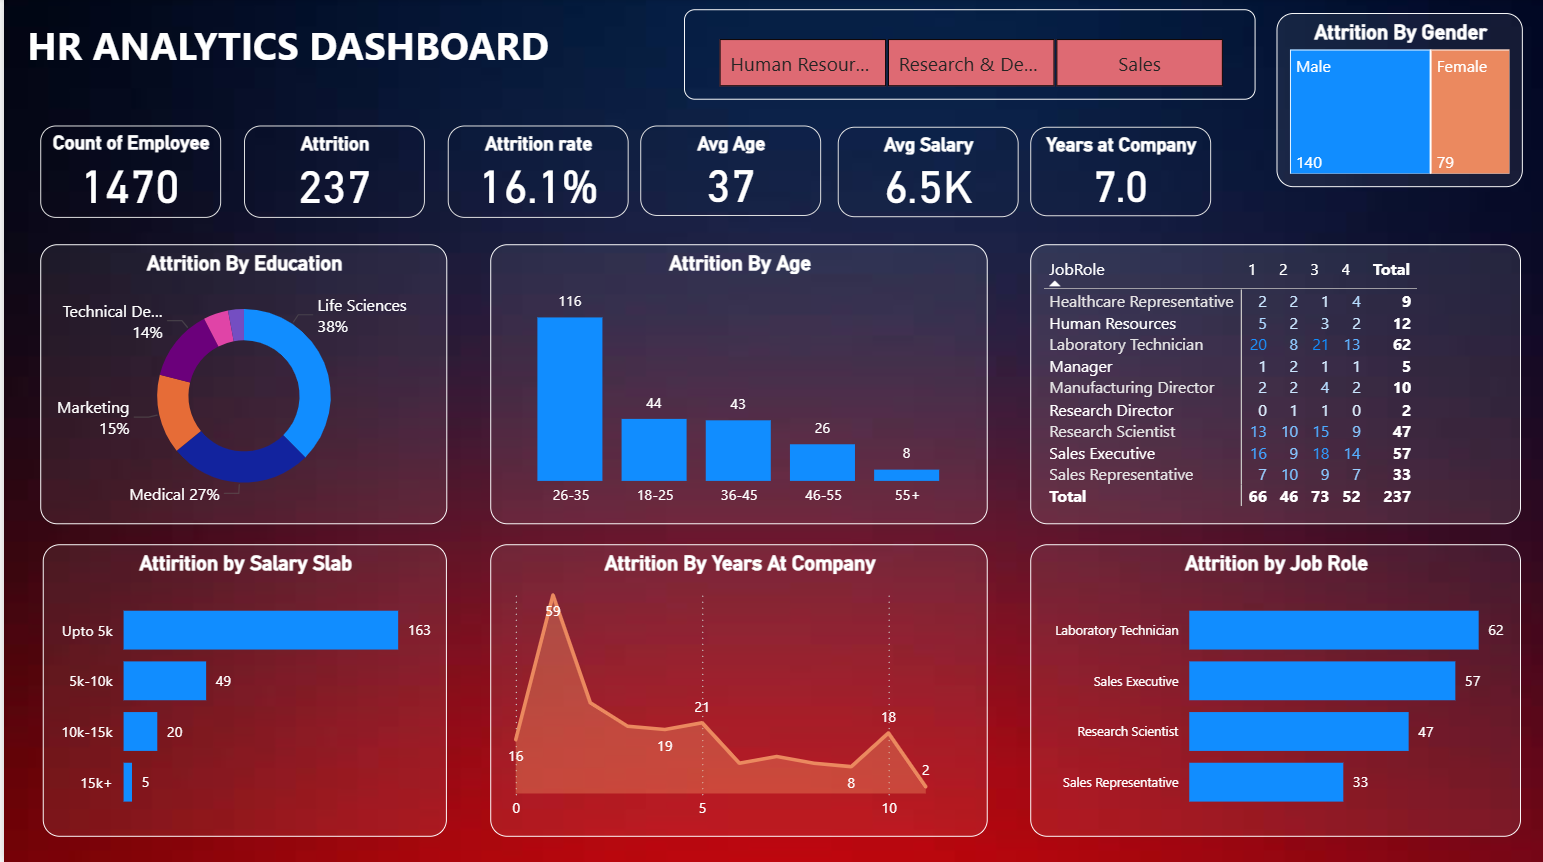

What the dashboard file says about the page in this screenshot:
{"tool":"powerbi","page":{"name":"Page 1","canvas":[1280,720],"ordinal":0},"visuals":[{"type":"card","title":"Count of Employee","fields":{"Values":["CountNonNull(HR_Analytics.EmpID)"]},"box":[30.2,105.8,150,76.7],"z":0},{"type":"card","title":"Attrition rate","fields":{"Values":["HR_Analytics.AttritionRate"]},"box":[368.6,105.8,150,76.7],"z":1000},{"type":"card","title":"Avg Age","fields":{"Values":["Avg(HR_Analytics.Age)"]},"box":[529.1,105.8,150,75.6],"z":2000},{"type":"card","title":"Attrition ","fields":{"Values":["Sum(HR_Analytics.AttritionCounnt)"]},"box":[200,105.8,150,76.7],"z":3000},{"type":"card","title":"Avg Salary","fields":{"Values":["Avg(HR_Analytics.MonthlyIncome)"]},"box":[693,107,150,75.6],"z":4000},{"type":"card","title":"Years at Company","fields":{"Values":["Avg(HR_Analytics.YearsAtCompany)"]},"box":[853.5,107,150,74.4],"z":5000},{"type":"donutChart","title":"Attrition By Education","fields":{"Y":["Sum(HR_Analytics.AttritionCounnt)"],"Category":["HR_Analytics.EducationField"]},"box":[30.2,204.7,338.4,232.6],"z":6000},{"type":"columnChart","title":"Attrition By Age","fields":{"Category":["HR_Analytics.AgeGroup"],"Y":["Sum(HR_Analytics.AttritionCounnt)"]},"box":[404.7,204.7,414,232.6],"z":7000},{"type":"pivotTable","fields":{"Rows":["HR_Analytics.JobRole"],"Columns":["HR_Analytics.JobSatisfaction"],"Values":["Sum(HR_Analytics.AttritionCounnt)"]},"box":[853.5,204.7,408.1,232.6],"z":8000},{"type":"barChart","title":"Attirition by Salary Slab","fields":{"Category":["HR_Analytics.SalarySlab"],"Y":["Sum(HR_Analytics.AttritionCounnt)"]},"box":[32.6,454.7,336,243],"z":9000},{"type":"barChart","title":"Attrition by Job Role","fields":{"Y":["Sum(HR_Analytics.AttritionCounnt)"],"Category":["HR_Analytics.JobRole"]},"box":[853.5,454.7,408.1,243],"z":10000},{"type":"areaChart","title":"Attrition By Years At Company","fields":{"Category":["HR_Analytics.YearsAtCompany"],"Y":["Sum(HR_Analytics.AttritionCounnt)"]},"box":[404.7,454.7,414,243],"z":11000},{"type":"treemap","title":"Attrition By Gender","fields":{"Group":["HR_Analytics.Gender","HR_Analytics.YearsAtCompany"],"Values":["Sum(HR_Analytics.AttritionCounnt)"]},"box":[1057.5,12.5,205,145],"z":12000},{"type":"slicer","fields":{"Values":["HR_Analytics.Department"]},"box":[565.1,9.3,475.6,75.6],"z":13000},{"type":"textbox","box":[15,12.5,492.5,72.5],"z":14000}]}

Visuals, with their boxes in screenshot pixels (x1, y1, x2, y2), scaled from the page's 1280x720 canvas onto the 1543x862 screenshot:
"Count of Employee" card: <box>36,127,217,218</box>
"Attrition rate" card: <box>444,127,625,218</box>
"Avg Age" card: <box>638,127,819,217</box>
"Attrition " card: <box>241,127,422,218</box>
"Avg Salary" card: <box>835,128,1016,219</box>
"Years at Company" card: <box>1029,128,1210,217</box>
"Attrition By Education" donutChart: <box>36,245,444,524</box>
"Attrition By Age" columnChart: <box>488,245,987,524</box>
pivotTable - HR_Analytics.JobRole x HR_Analytics.JobSatisfaction: <box>1029,245,1521,524</box>
"Attirition by Salary Slab" barChart: <box>39,544,444,835</box>
"Attrition by Job Role" barChart: <box>1029,544,1521,835</box>
"Attrition By Years At Company" areaChart: <box>488,544,987,835</box>
"Attrition By Gender" treemap: <box>1275,15,1522,189</box>
slicer - HR_Analytics.Department: <box>681,11,1255,102</box>
textbox: <box>18,15,612,102</box>
